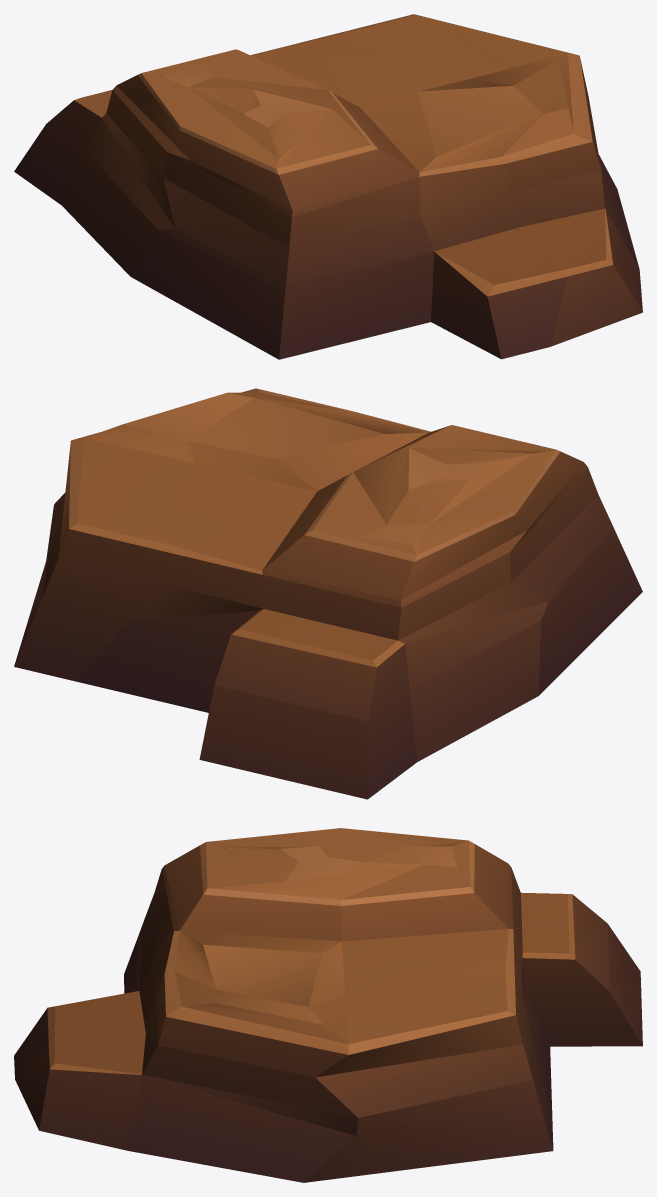
File: Rock03.fbx
3 renders of one model, top to bottom at view 1: azimuth 30°, elevation 25°; view 2: azimuth 150°, elevation 25°; view 3: azimuth 270°, elevation 25°, orthographic. The views are drawn at different scales.
Visible parts, largest first — view 1: Rock03; view 2: Rock03; view 3: Rock03.
Part boxes in pixels (x1,y1,x2,y2): Rock03: (14, 14, 642, 359); Rock03: (14, 388, 642, 799); Rock03: (14, 828, 642, 1182).
Size of the model in its own units: 252 by 83.98 by 302.
